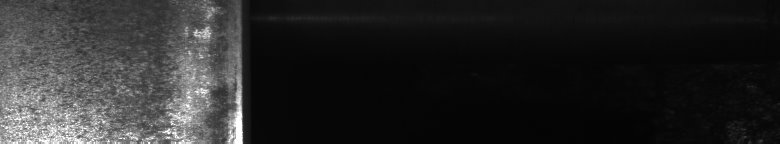kb: (5, 4, 232, 136)
